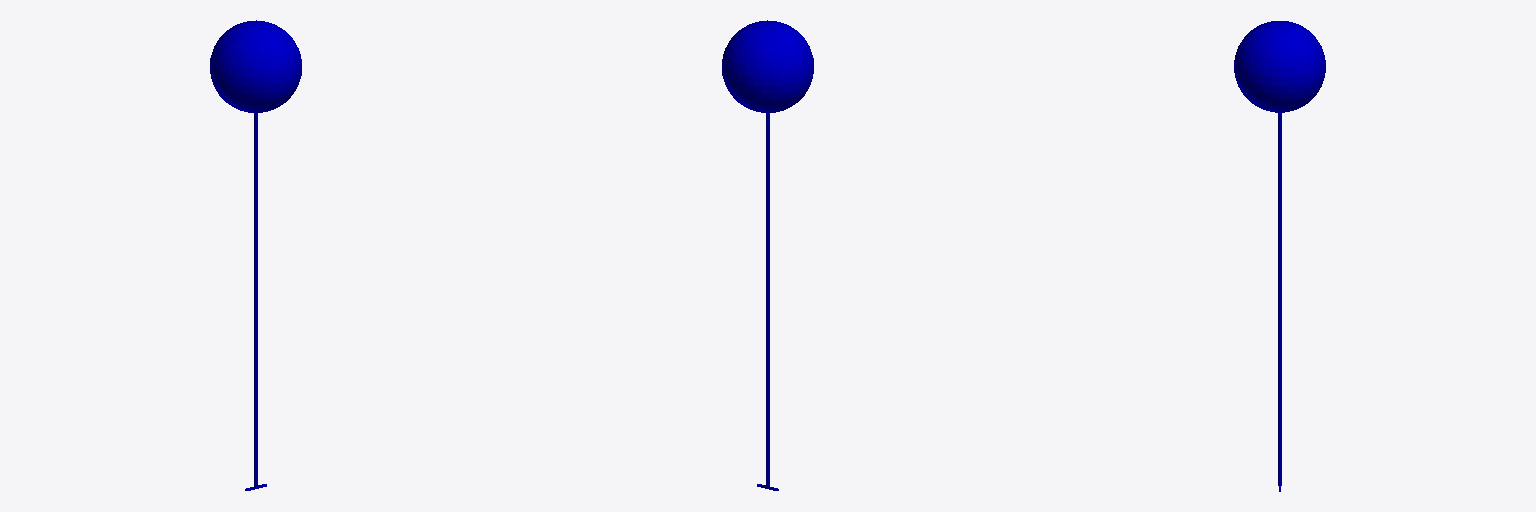
The robot description file, URDF, robot "single_legged_hopper":
<?xml version="1.0"?>
<robot name = "single_legged_hopper">
    <link name = "xtrans"/>
    <link name = "ztrans"/>
    <material name="blue">
        <color rgba="0 0 0.8 1"/>
    </material>
    <joint name="xslide" type="prismatic">
        <parent link="xtrans"/>
        <child link="ztrans"/>
        <origin rpy="0 0 0" xyz="0 0 0"/>
        <axis xyz="1 0 0"/>
    </joint>
    <joint name="zslide" type="prismatic">
        <parent link="ztrans"/>
        <child link="base"/>
        <origin rpy="0 0 0" xyz="0 0 0"/>
        <axis xyz="0 0 1"/>
    </joint>
    <!-- add link for the base -->
    <link name="base">
        <inertial>
            <origin xyz="0 0 0"/>
            <mass value="10"/>
            <inertia ixx="0.0001" ixy="0" ixz="0" iyy="0.0001" iyz="0.0" izz="0.0001"/>
        </inertial>
        <visual>
            <origin xyz="0 0 0" rpy="0.0 0.0 0.0"/>
            <geometry>
                <sphere radius="0.2"/>
            </geometry> 
            <material name="blue"/>
        </visual>
    </link>
    <!--does this lock the hopper in x and z axis?-->
    
    <!-- join between base and leg 1 -->
    
    
    <!-- add link for leg 1 -->
    <link name="leg_1">
        <visual>
            <origin xyz="0 0 -0.5" rpy="0 0 0"/>
            <geometry>
                <cylinder radius="0.01" length = "1"/>
            </geometry>
            <material name="blue"/>
        </visual>
        <inertial>
            <origin xyz="0 0 -0.5" rpy="0 0 0"/>
            <mass value="1"/>
            <inertia ixx="0.083" ixy="0.0" ixz="0.0" iyy="0.083" iyz="0.0" izz="0.00001"/>
        </inertial>
    </link>
    <joint name="base_leg_1" type="revolute">
        <parent link="base"/>
        <child link="leg_1"/>
        <axis xyz="0 1 0"/>
      	<origin xyz = "0 0 0"/>
        <limit lower="-1.57" upper="1.57"/>
    </joint>
    <!-- join between leg 1 and leg 2 -->
    
    
    <!-- add link for leg 2 -->
    <link name="leg_2">
        <visual>
            <origin xyz="0 0 -0.5" rpy="0 0 0"/>
            <geometry>
                <cylinder radius="0.01" length = "1"/>
            </geometry>
            <material name="blue"/>
        </visual>
        <inertial>
            <origin xyz="0 0 -0.5" rpy="0 0 0"/>
            <mass value="1"/>
            <inertia ixx="0.083" ixy="0.0" ixz="0.0" iyy="0.083" iyz="0.0" izz="0.00001"/>
        </inertial>
    </link>
    <joint name="leg_1_leg_2" type="revolute">
        <parent link="leg_1"/>
        <child link="leg_2"/>
        <axis xyz="0 1 0"/>
      	<origin xyz = "0 0 -1"/>
        <limit lower="-1.04" upper="2.09"/>
    </joint>
    <!-- joint between leg 2 and foot -->
    
    <link name="foot">
        <inertial>
            <origin xyz="0 0 0" rpy="0.0 0.0 0.0"/>
            <mass value="0.33"/>
            <inertia ixx="0.0001" ixy="0.0" ixz="0.0" iyy="0.003" iyz="0.0" izz="0.003"/>
        </inertial>
        <visual>
            <origin xyz="0 0 0" rpy="0.0 0.0 0.0"/>
            <geometry>
                <box size="0.1 0.01 0.01"/>
            </geometry>
            <material name="blue"/>
        </visual>
        <!-- collision point 1 -->
        <collision>
            <origin xyz="0.1665 0 0" rpy="0.0 0.0 0.0"/>
            <geometry>
                <sphere radius="0"/>
            </geometry>
        </collision> -->
        <!-- collision point 2 -->
        <collision>
        <origin xyz="-0.1665 0 0"/>
            <geometry>
                <sphere radius="0"/>
            </geometry>
        </collision>
        <!-- single collision point -->
        <!-- <collision>
            <origin xyz="0 0 0" rpy="0.0 0.0 0.0"/>
            <geometry>
                <sphere radius="0"/>
            </geometry>
        </collision> -->
    </link>
    <joint name="leg_2_foot" type="revolute">
        <parent link="leg_2"/>
        <child link="foot"/>
        <axis xyz="0 1 0"/>
      	<origin xyz = "0 0 -1"/>
        <limit lower="-1.04" upper="1.04"/>
    </joint>
    <!-- fix the joints together -->
    <!-- add transmission between base and leg 1 -->
    <transmission name = "joint1_transmission">
        <type>transmission_interface/SimpleTransmission</type>
        <joint name="base_leg_1"/>
        <actuator name="joint1_actuator">
            <mechanicalReduction>1</mechanicalReduction>
        </actuator>
    </transmission>
    <transmission name = "joint2_transmission">
        <type>transmission_interface/SimpleTransmission</type>
        <joint name="leg_1_leg_2"/>
        <actuator name="joint2_actuator">
            <mechanicalReduction>1</mechanicalReduction>
        </actuator>
    </transmission>
    <transmission name = "joint3_transmission">
        <type>transmission_interface/SimpleTransmission</type>
        <joint name="leg_2_foot"/>
        <actuator name="joint3_actuator">
            <mechanicalReduction>1</mechanicalReduction>
        </actuator>
    </transmission>
</robot>

--- Facts derived from the render (not from the file) ---
3 views of the same robot in one strip: view 1: azimuth 30°, elevation 25°; view 2: azimuth 150°, elevation 25°; view 3: azimuth 270°, elevation 25° (orthographic).
Robot: single_legged_hopper — 6 links, 5 joints (3 revolute, 2 prismatic); root link xtrans; default pose: every joint at zero.
Links seen in each view (by area): view 1: base, leg_2, leg_1; view 2: base, leg_2, leg_1; view 3: base, leg_2, leg_1.
Link boxes in pixels (<box>): base: <box>210,20,301,112</box>; leg_2: <box>254,278,257,488</box>; leg_1: <box>254,113,257,277</box>; base: <box>722,20,813,112</box>; leg_2: <box>766,278,769,488</box>; leg_1: <box>766,113,769,277</box>; base: <box>1234,21,1325,112</box>; leg_2: <box>1278,277,1281,485</box>; leg_1: <box>1278,113,1281,276</box>.
Size in the robot's own frame: 0.4 by 0.4 by 2.21 metres.
Geometry: primitives only (box / cylinder / sphere), no mesh files.
